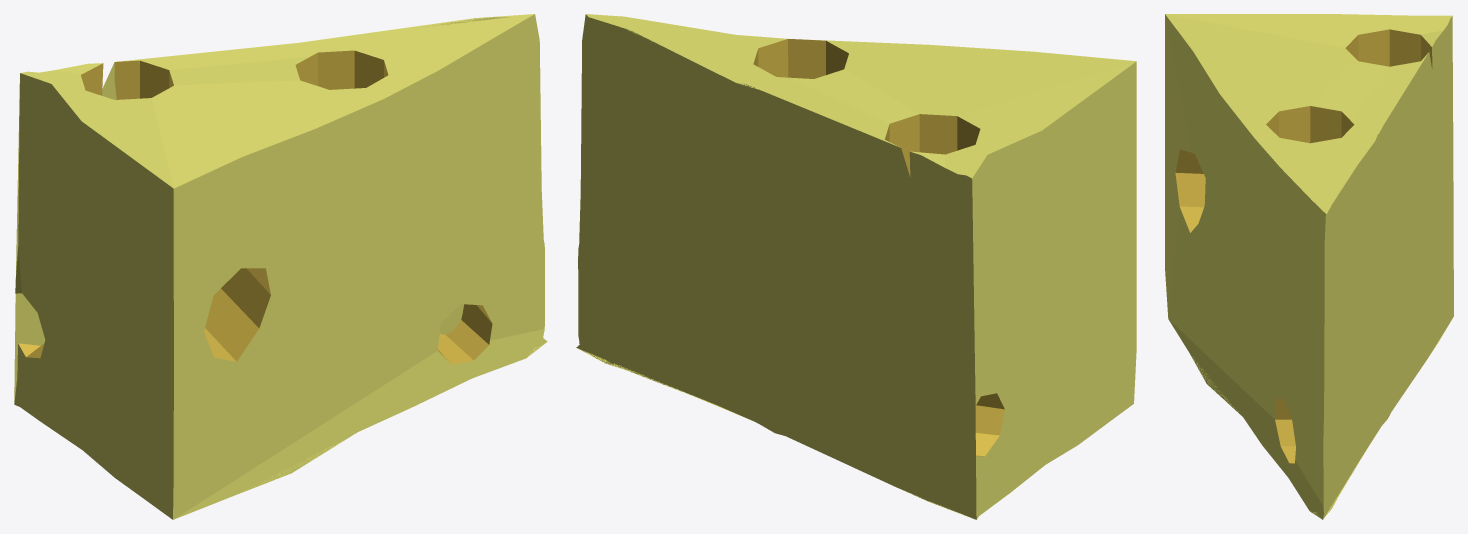
The model's file is CheeseCut1.fbx.
The picture shows the model from 3 angles, left to right: view 1: azimuth 30°, elevation 25°; view 2: azimuth 150°, elevation 25°; view 3: azimuth 270°, elevation 25°; orthographic projection. The views are drawn at different scales.
Visible parts, largest first — view 1: Cube; view 2: Cube; view 3: Cube.
Boxes of the visible parts, x1=… form: Cube: x1=14, y1=14, x2=547, y2=519; Cube: x1=576, y1=14, x2=1136, y2=519; Cube: x1=1165, y1=14, x2=1453, y2=519.
Bounding box in the file's own units: 291 × 203 × 171.
